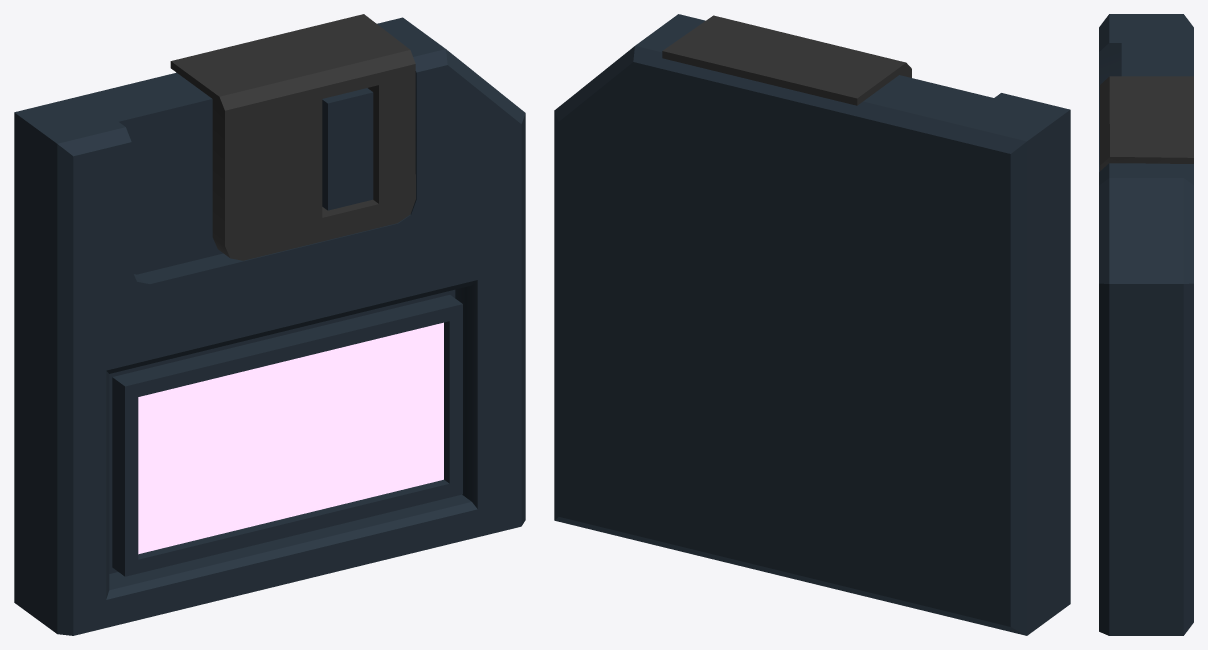
The model's file is Dyskietka_01.fbx.
3 renders of one model, left to right at view 1: azimuth 30°, elevation 25°; view 2: azimuth 150°, elevation 25°; view 3: azimuth 270°, elevation 25°, orthographic. The views are drawn at different scales.
Visible parts, largest first — view 1: Cube, Cube.001; view 2: Cube, Cube.001; view 3: Cube, Cube.001.
Boxes of the visible parts, left/top/right/bottom form: Cube: left=14, top=17, right=525, bottom=635; Cube.001: left=170, top=14, right=415, bottom=260; Cube: left=554, top=14, right=1070, bottom=635; Cube.001: left=662, top=15, right=911, bottom=105; Cube: left=1099, top=14, right=1193, bottom=635; Cube.001: left=1100, top=76, right=1193, bottom=170.
Bounding box in the file's own units: 2 × 2.03 × 0.4057.
